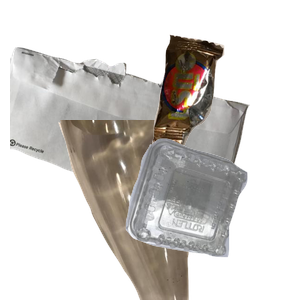glass: (56, 120, 241, 300)
paper: (10, 45, 250, 225)
plastic: (123, 136, 300, 300)
trash: (150, 32, 300, 172)
